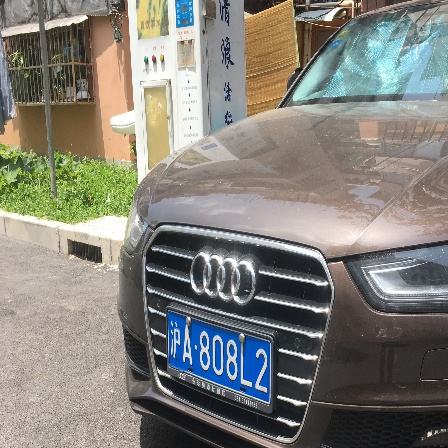plate: (161, 305, 277, 409)
